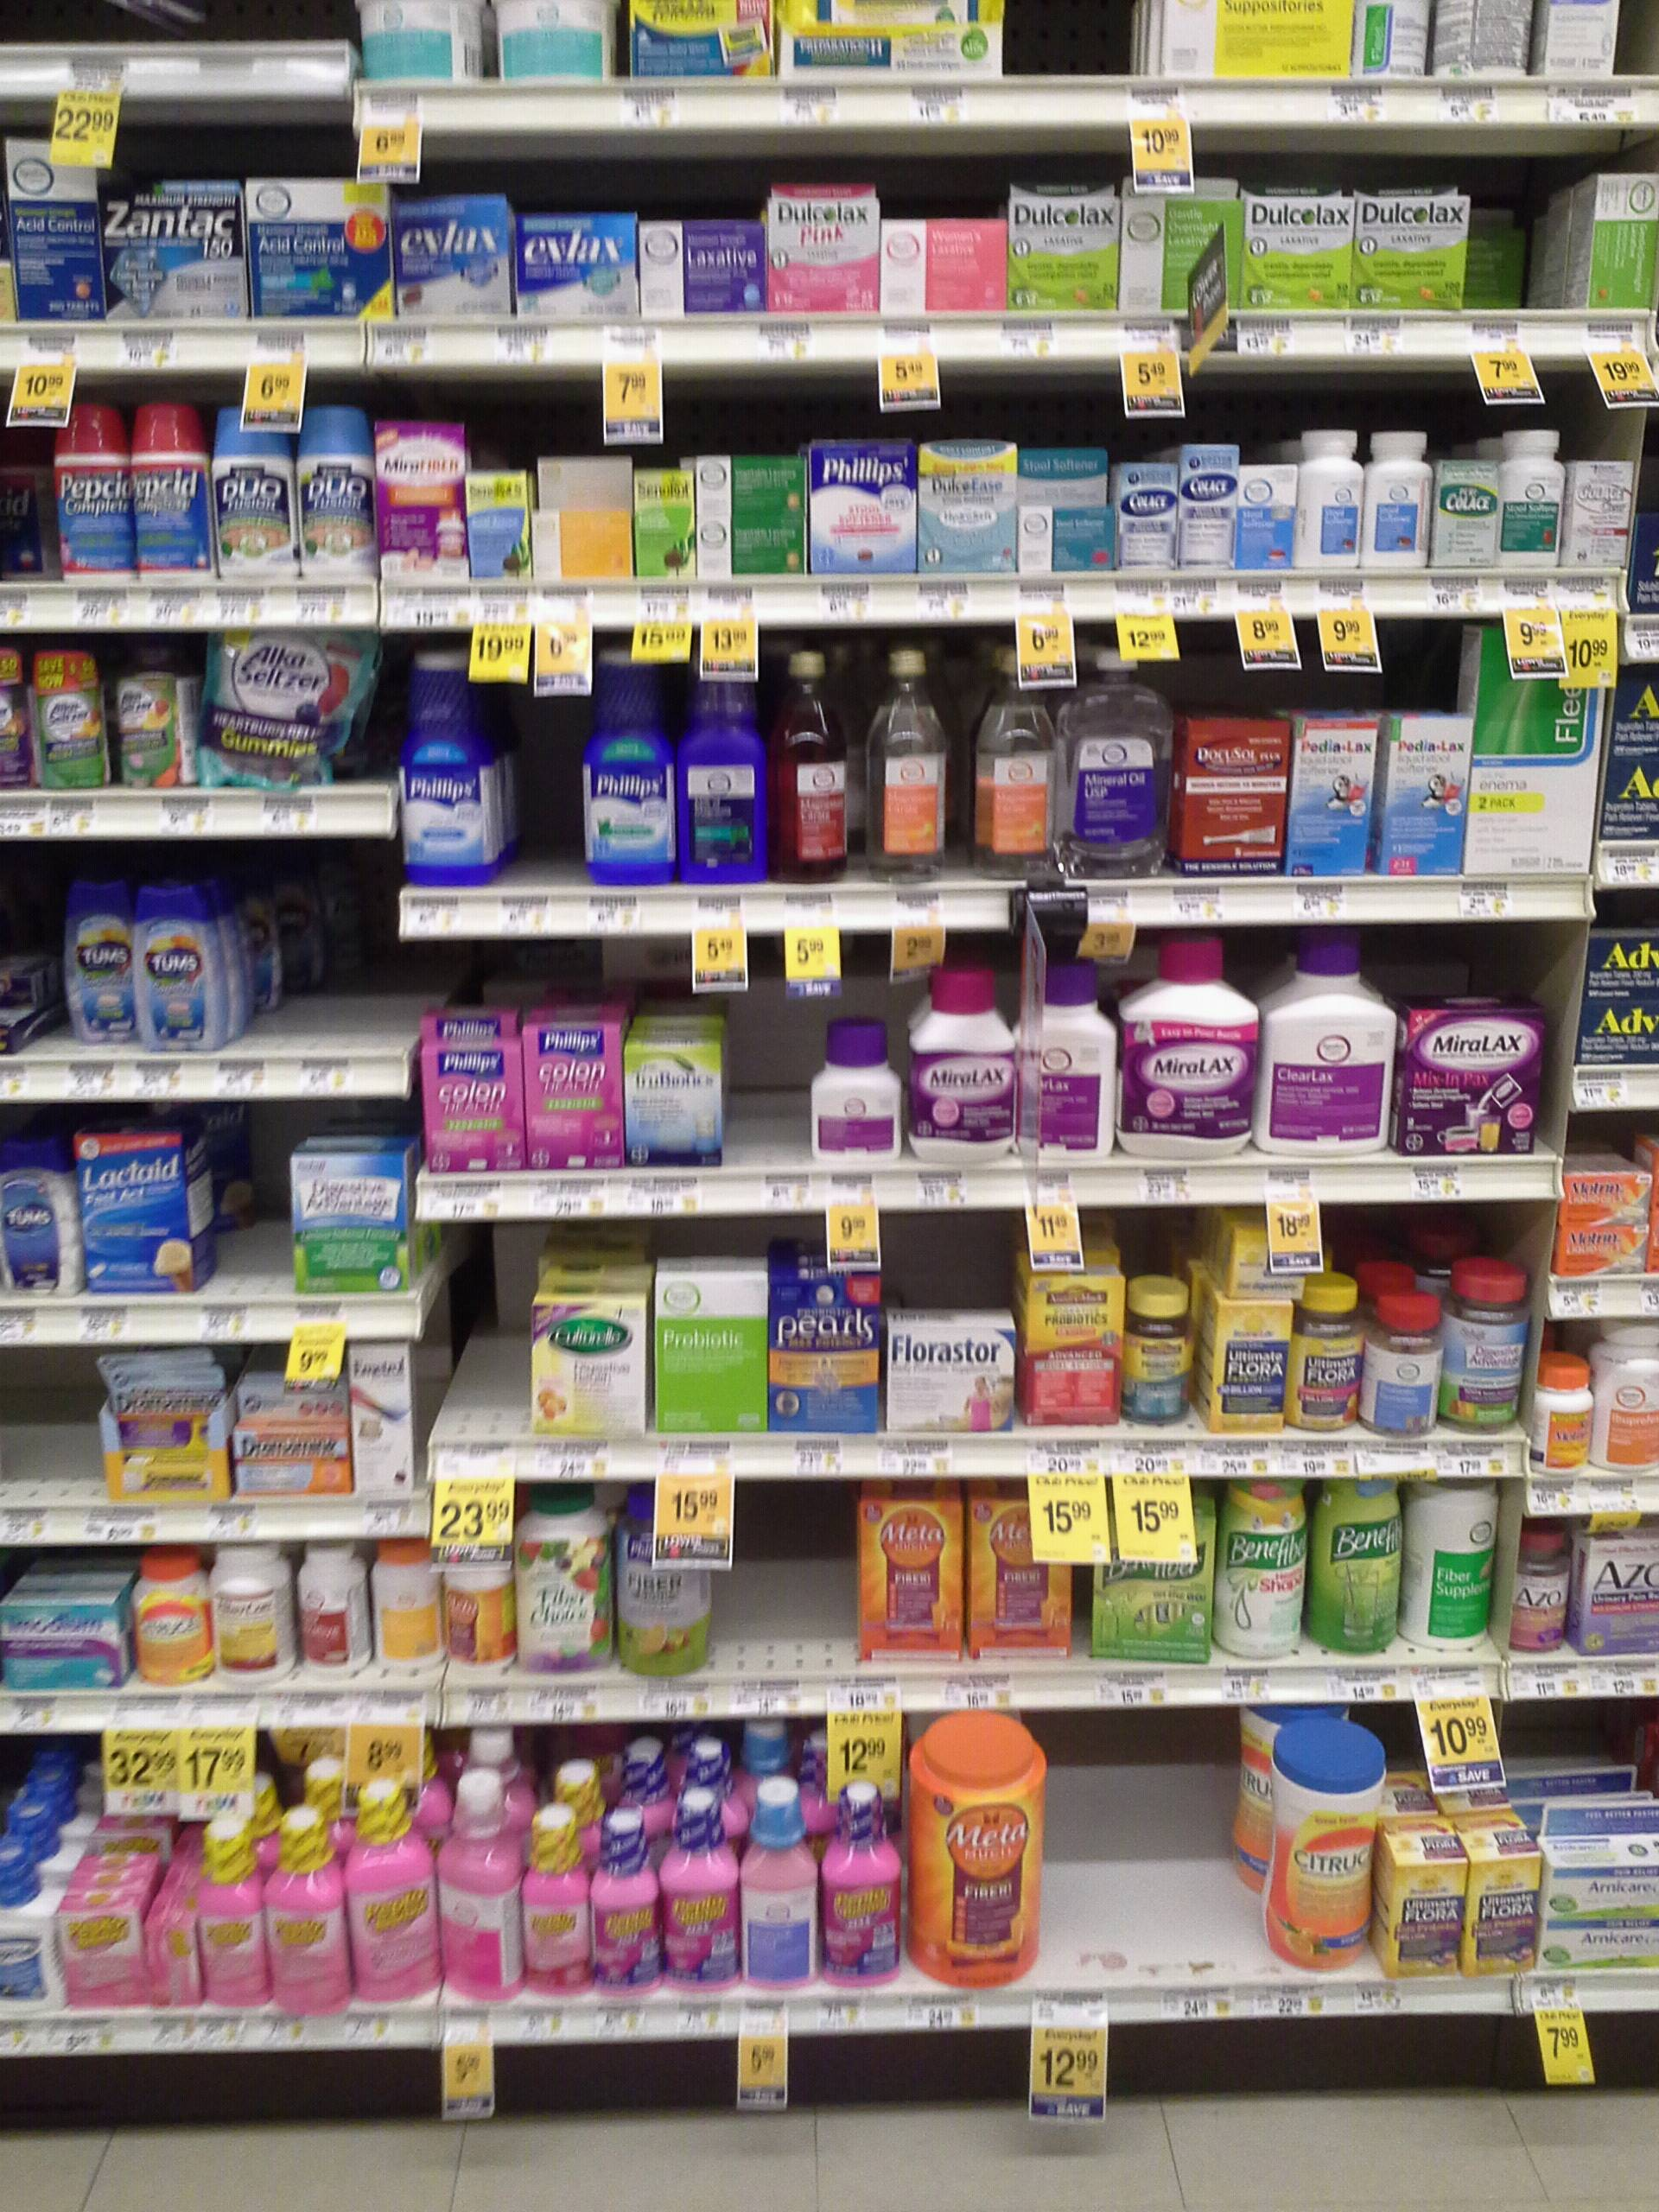Out-of-stock: (422, 1217, 532, 1440)
